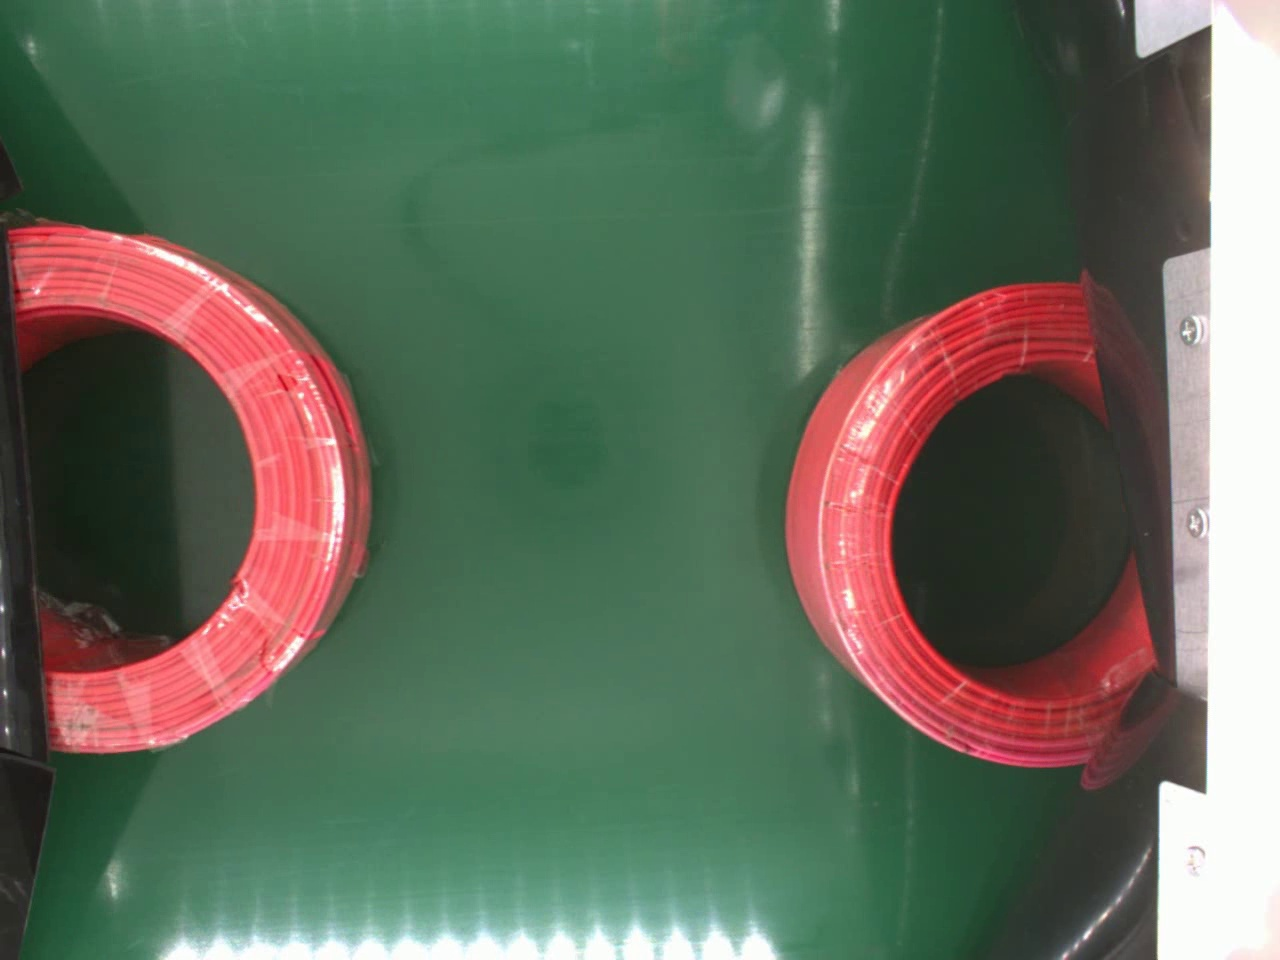red: (8, 222, 380, 757), (784, 276, 1155, 771)
